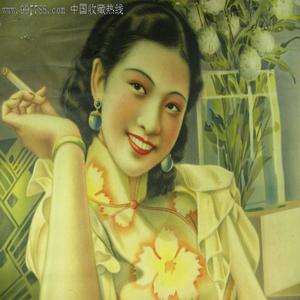cigarette: (1, 67, 39, 99)
